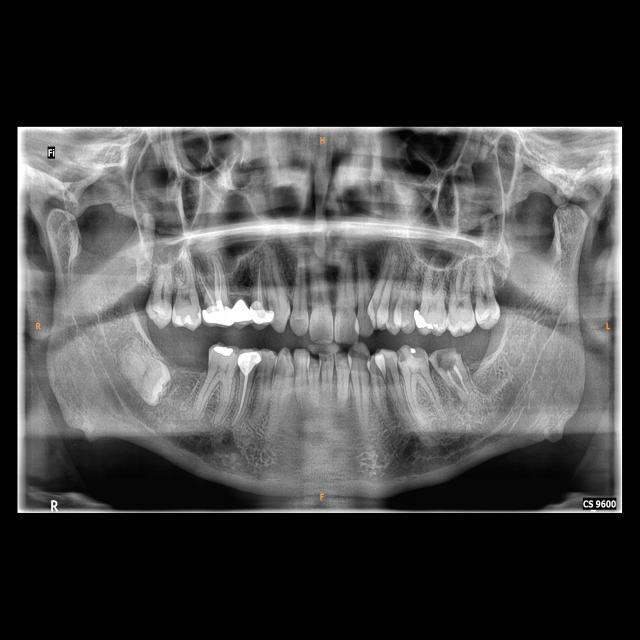dentin-curugu: (434, 347, 458, 373), (409, 347, 428, 361), (393, 348, 408, 364)
dolgu: (412, 304, 444, 332), (210, 342, 240, 364)
kanal-tedavisi: (200, 258, 227, 302), (234, 375, 250, 423), (445, 371, 472, 395), (254, 262, 264, 305)
kaplama: (203, 302, 235, 327), (235, 348, 262, 373), (250, 298, 274, 324)
kopru: (231, 290, 253, 325)
